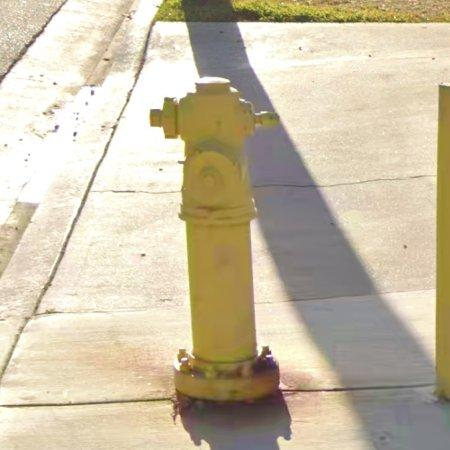a fire hydrant: (150, 77, 280, 401)
